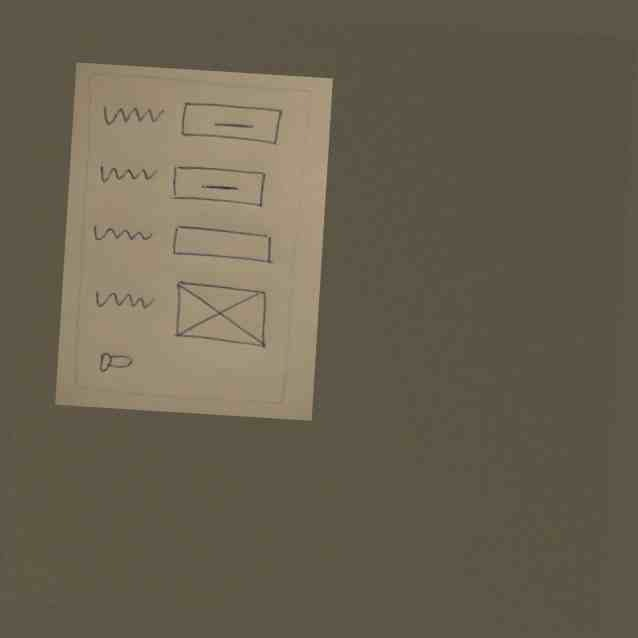button: (175, 99, 289, 149), (169, 161, 270, 210)
image: (168, 277, 272, 355)
switch: (95, 347, 134, 379)
text: (97, 99, 165, 134), (95, 156, 162, 191), (90, 217, 157, 252), (90, 283, 157, 318)
text_input: (169, 219, 279, 271)
